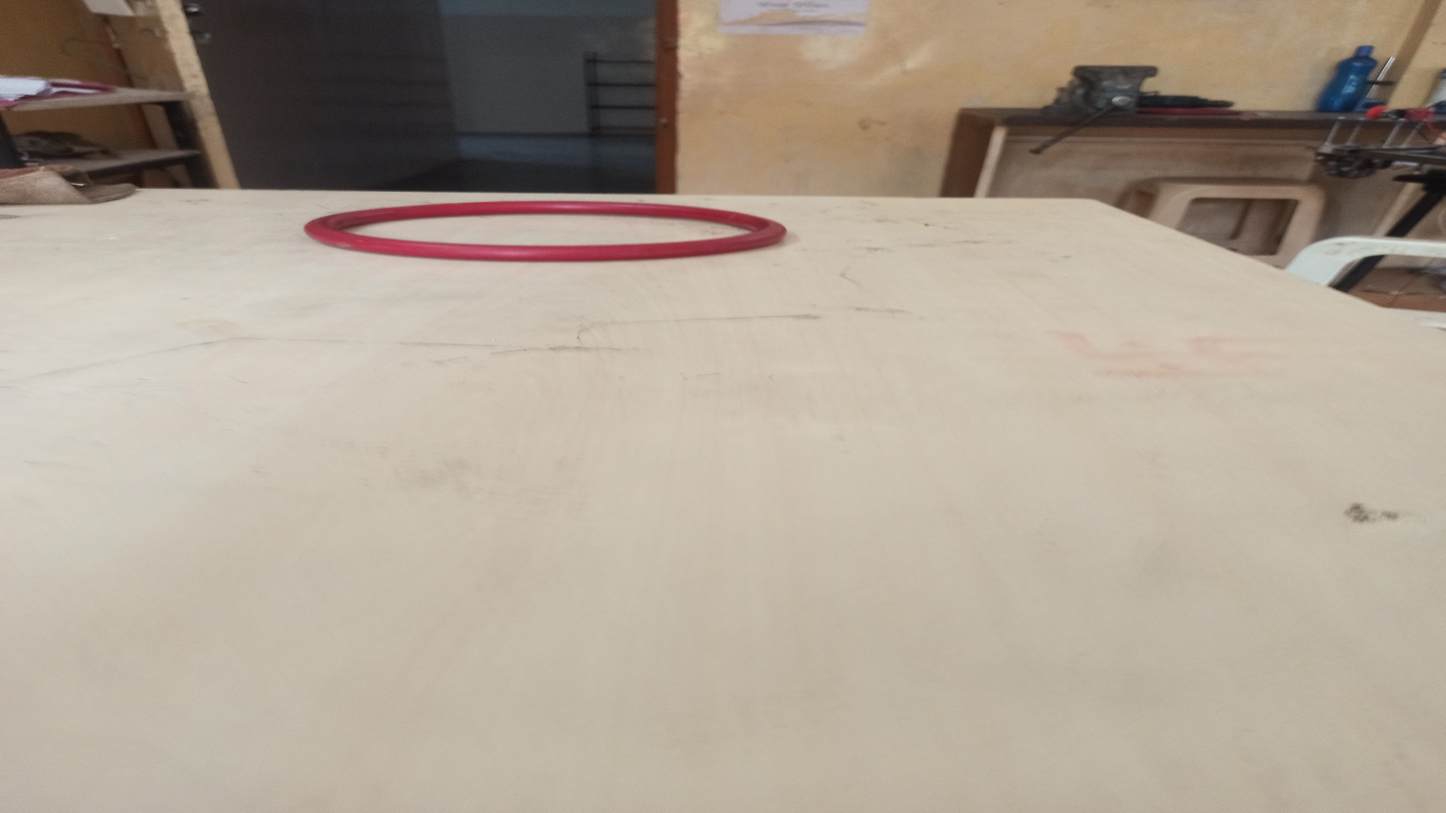Red ring: (306, 198, 789, 267)
